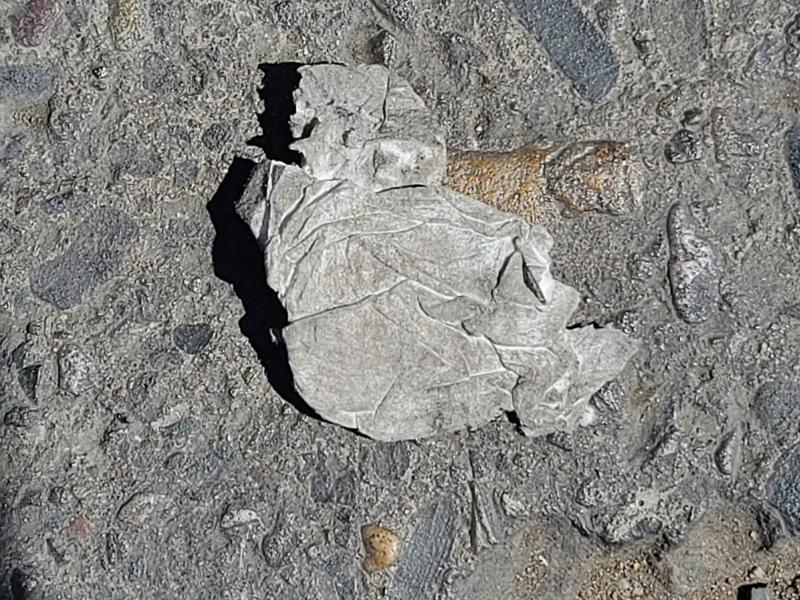papel: (231, 65, 639, 450)
